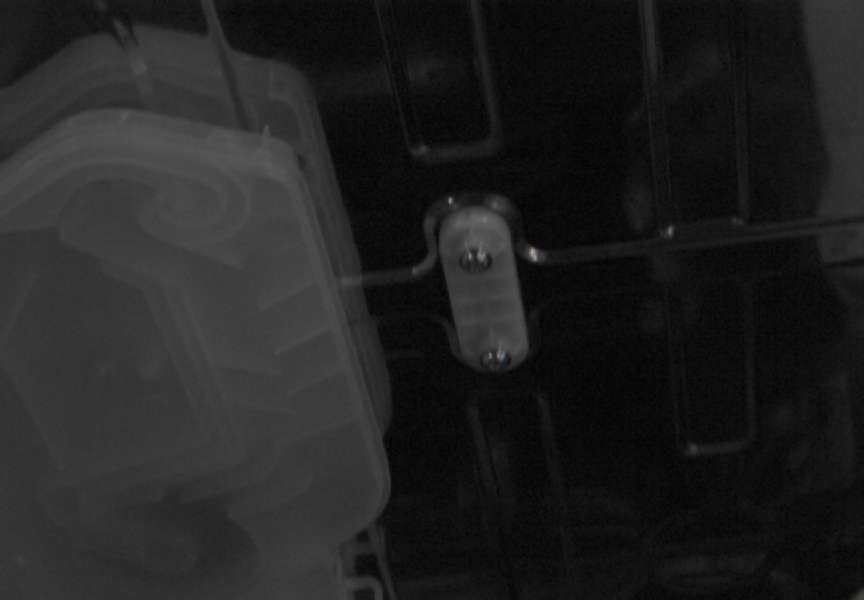screw: (459, 247, 493, 273), (480, 348, 512, 373)
